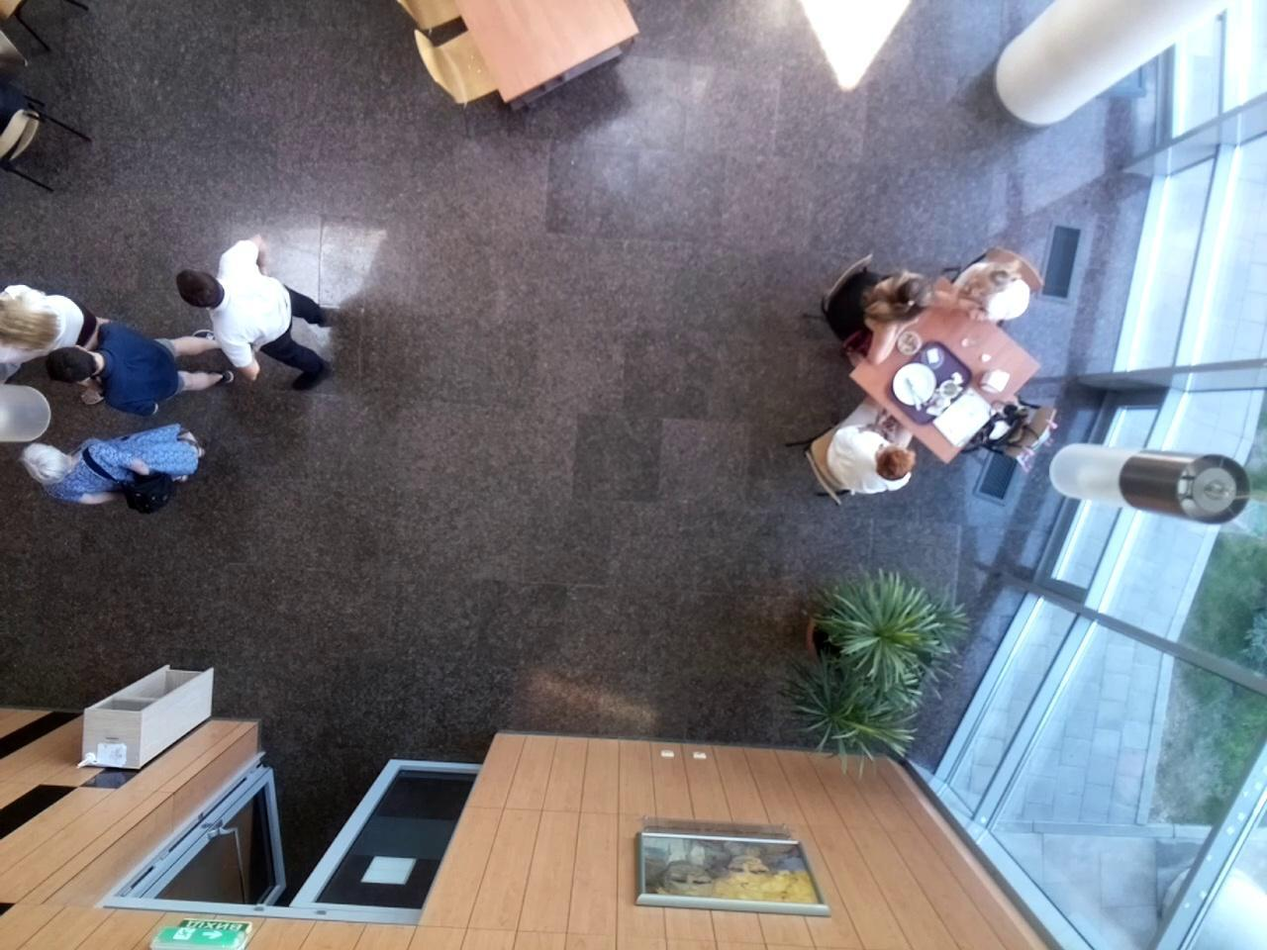person: (186, 227, 340, 400), (29, 412, 210, 515), (828, 370, 955, 512), (37, 314, 208, 413), (807, 247, 929, 374), (943, 212, 1034, 343)
